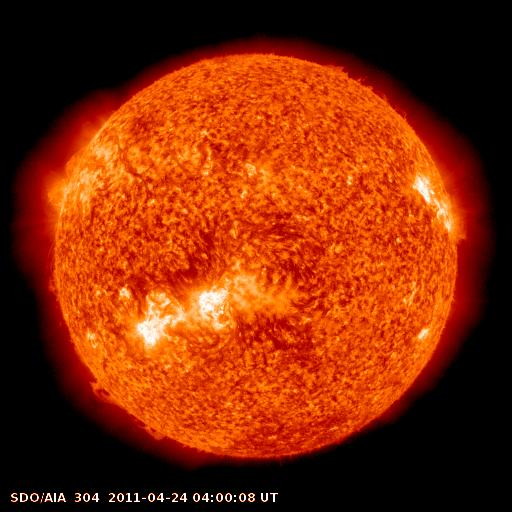prominence: (320, 55, 412, 122), (37, 262, 67, 312), (86, 376, 123, 411), (138, 416, 171, 448)
